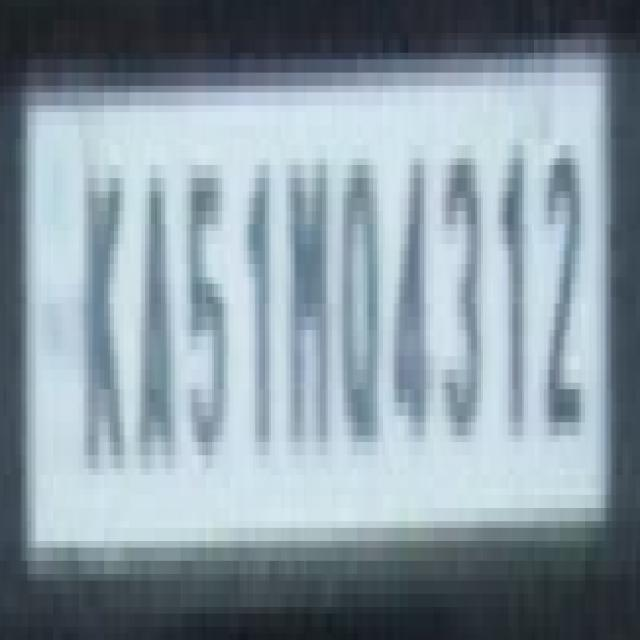1: (240, 154, 276, 474), (496, 132, 528, 470)
2: (540, 123, 590, 444)
3: (439, 143, 486, 475)
4: (390, 139, 434, 458)
5: (181, 156, 233, 478)
A: (137, 141, 177, 482)
K: (74, 134, 130, 478)
M: (282, 132, 332, 468)
Q: (337, 132, 384, 460)
